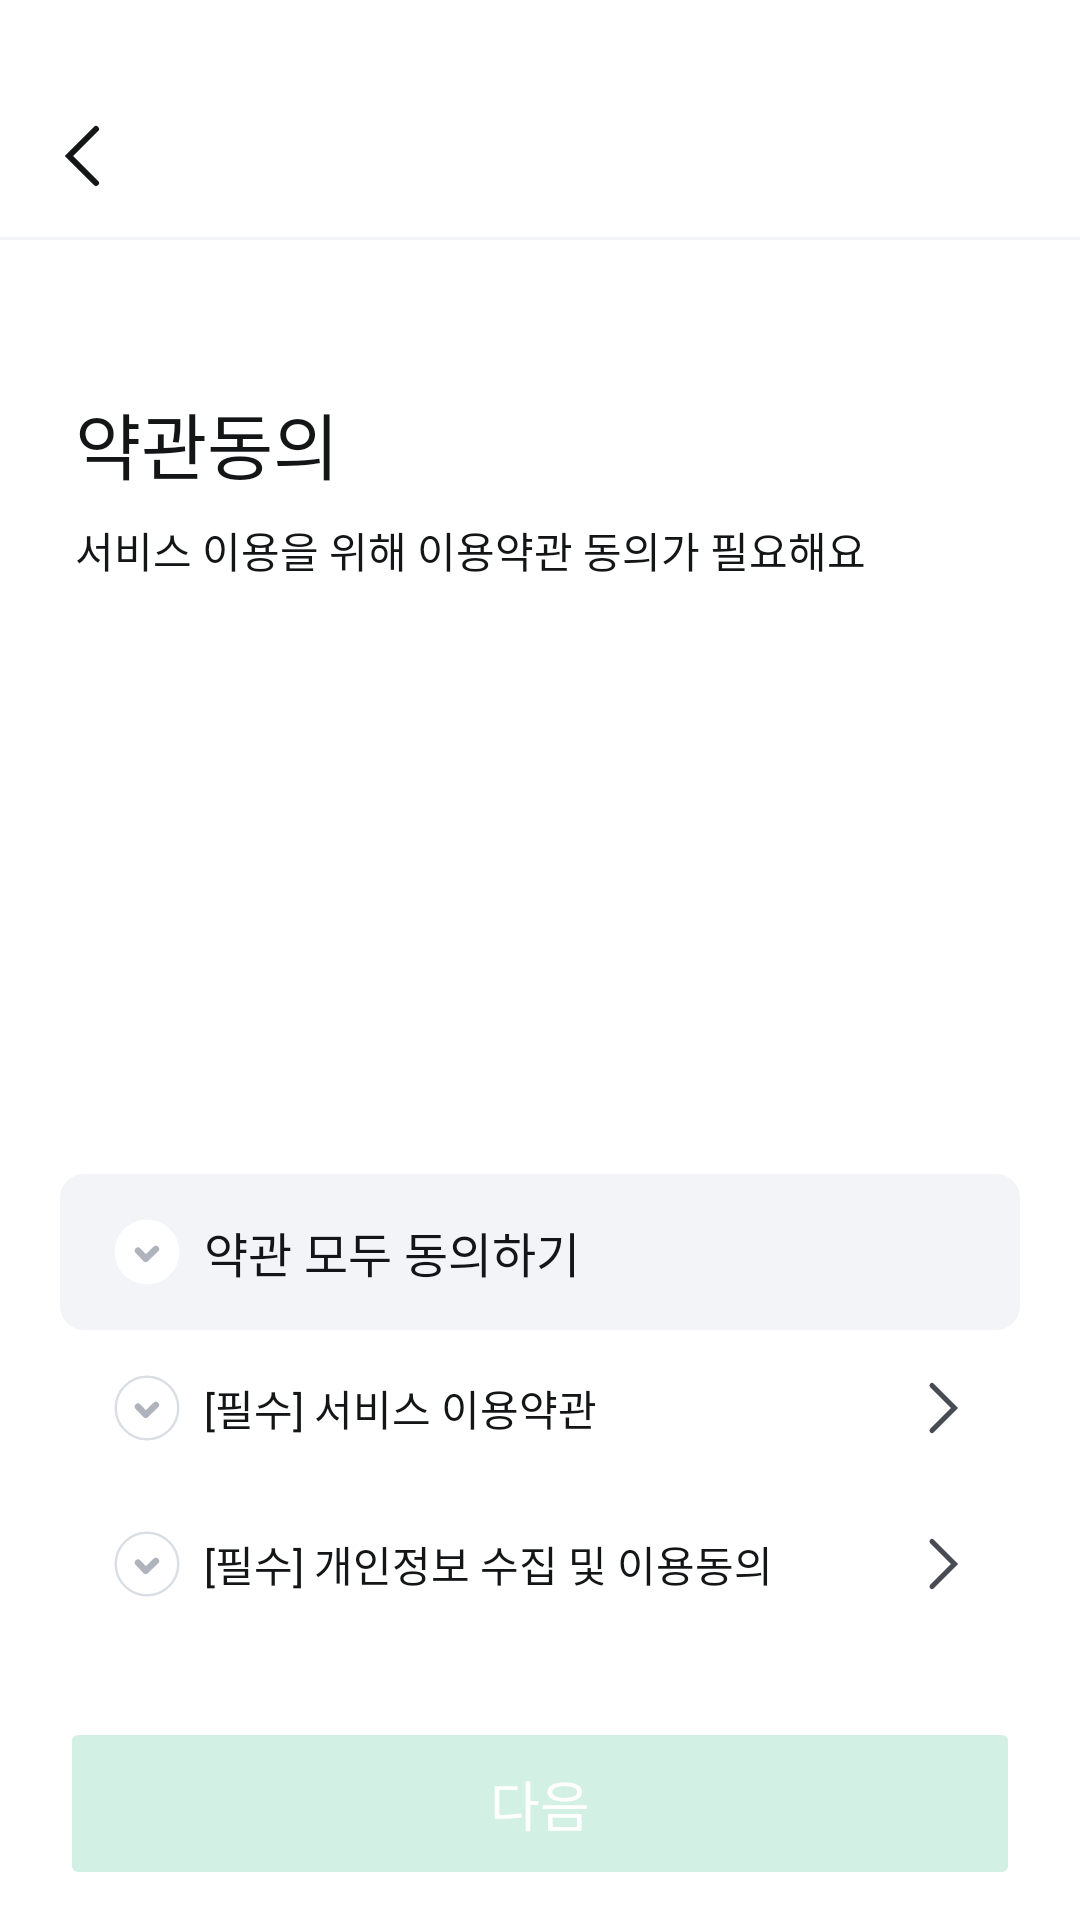

Where icons sit on this 1080px×1920px app screen, as [x1,y1,x2,y2]:
back: [65,125,99,186]
checkbox: [135,1246,159,1262]
checkbox stroke: [115,1376,179,1440], [115,1532,179,1596]
next: [929,1383,958,1433], [929,1539,958,1589]
